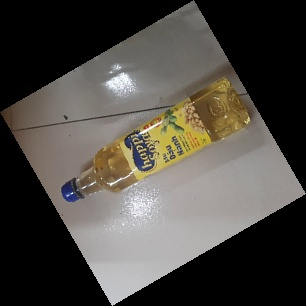Happy Soya: (59, 76, 253, 204)
